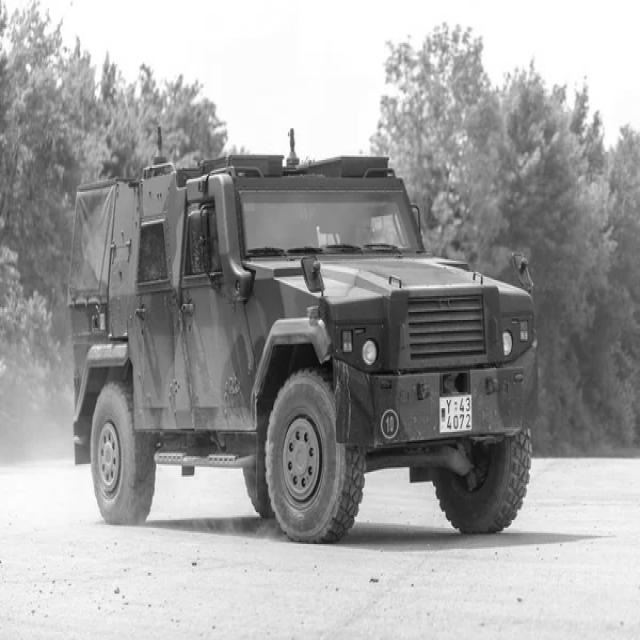Car: (68, 139, 540, 543)
